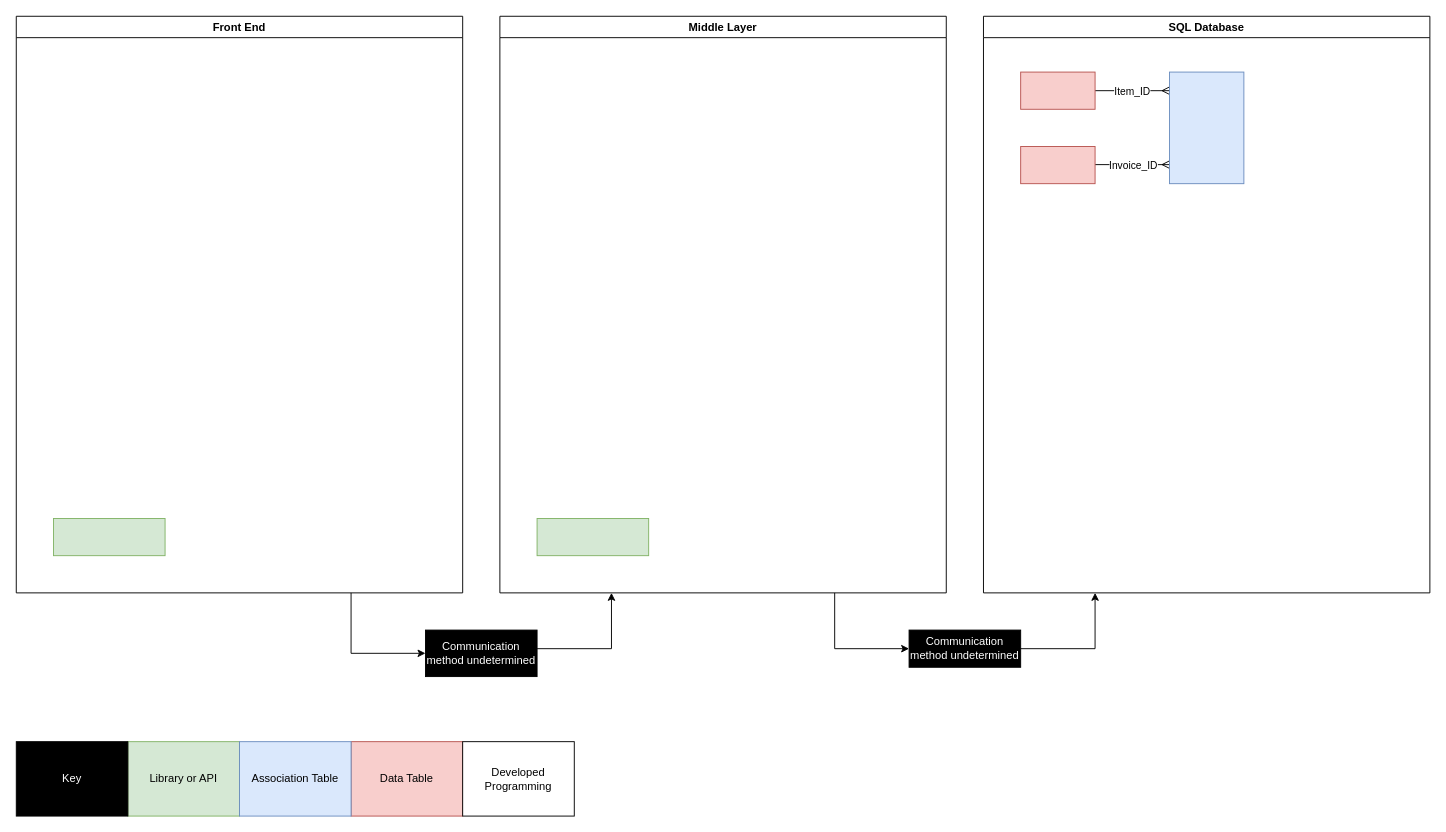
The diagram is 1446 pixels wide and 832 high, and some of its shapes have lost their labels. The shapes that lost their labels are listed below. From the top down, each one's centre as x and y in pixels, then its label:
At (1057,90): "Items".
At (1206,127): "Items_Invoices".
At (1057,165): "Invoices".
At (109,537): "JavaFX".
At (592,537): "Google Maps API".
